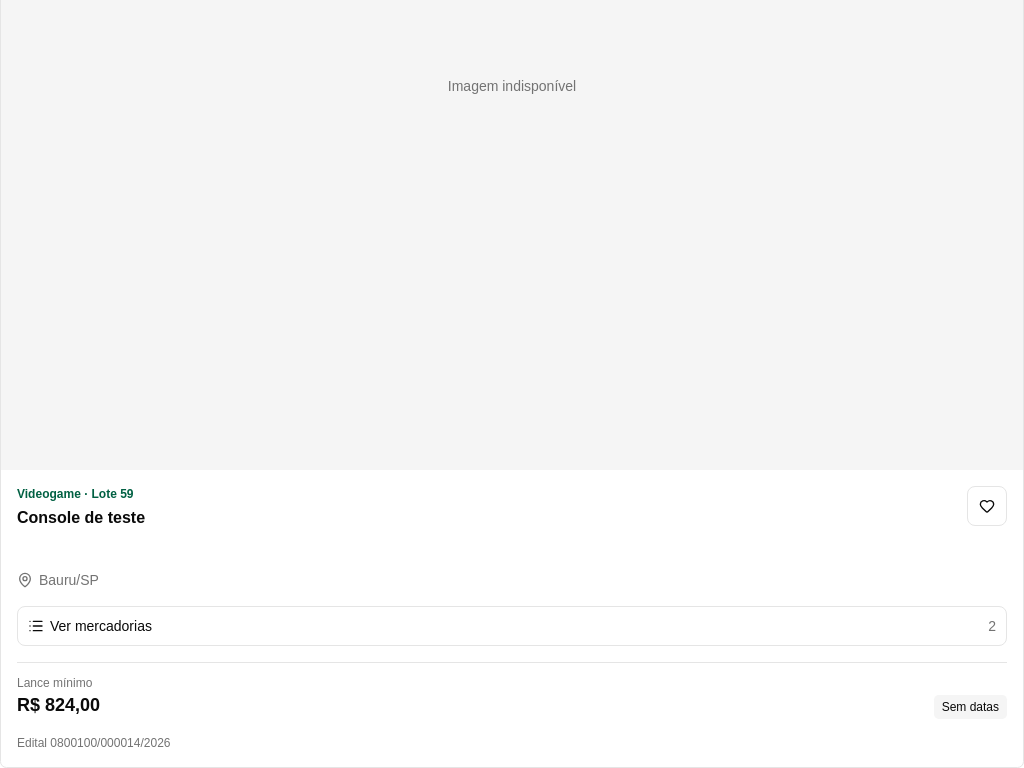
Test case: LotCard merchandise dialog › closes with the explicit close control
The width and height of the screenshot is (1024, 768).
(page scrolled)
Click the button with aria-label "Ver 2 mercadorias do lote 59" at point(101, 626), box [17,606,1007,646]
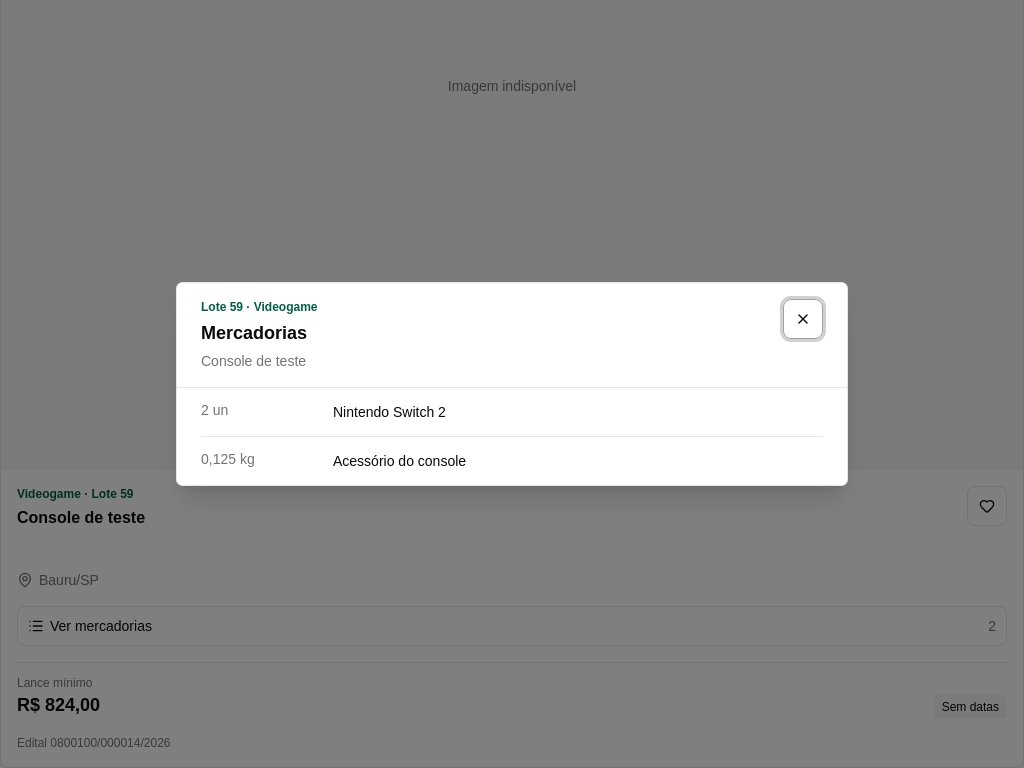
Click the button named "Fechar mercadorias" at point(803, 319), box [783,299,823,339]
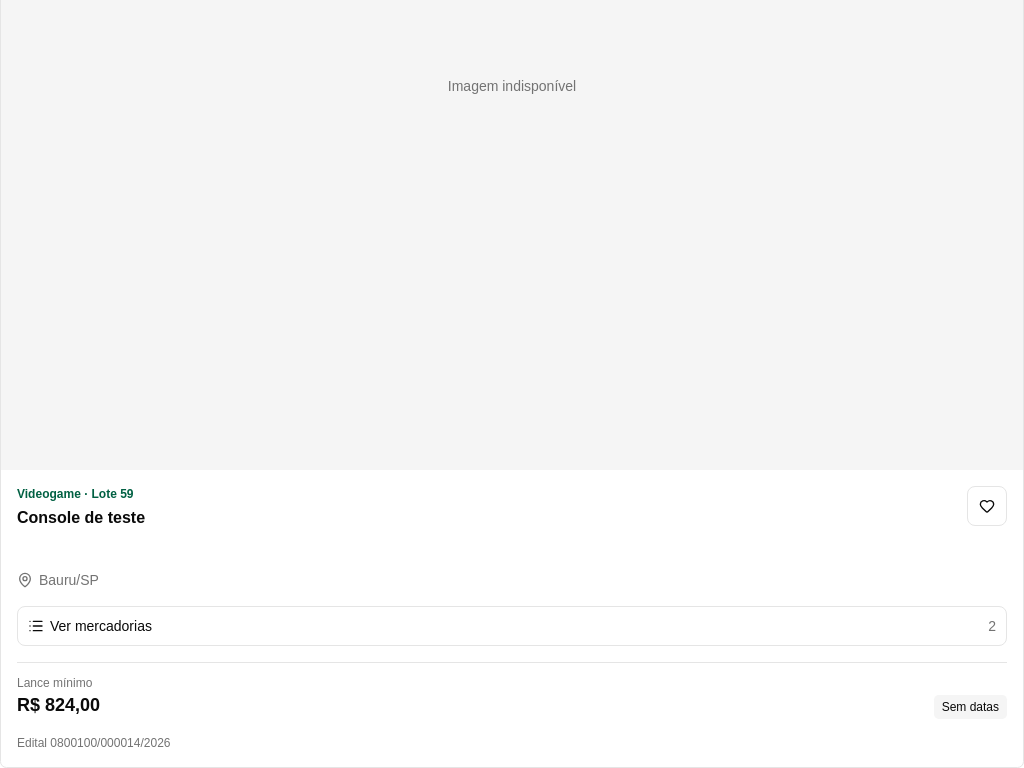
expect the dialog is gone: met
